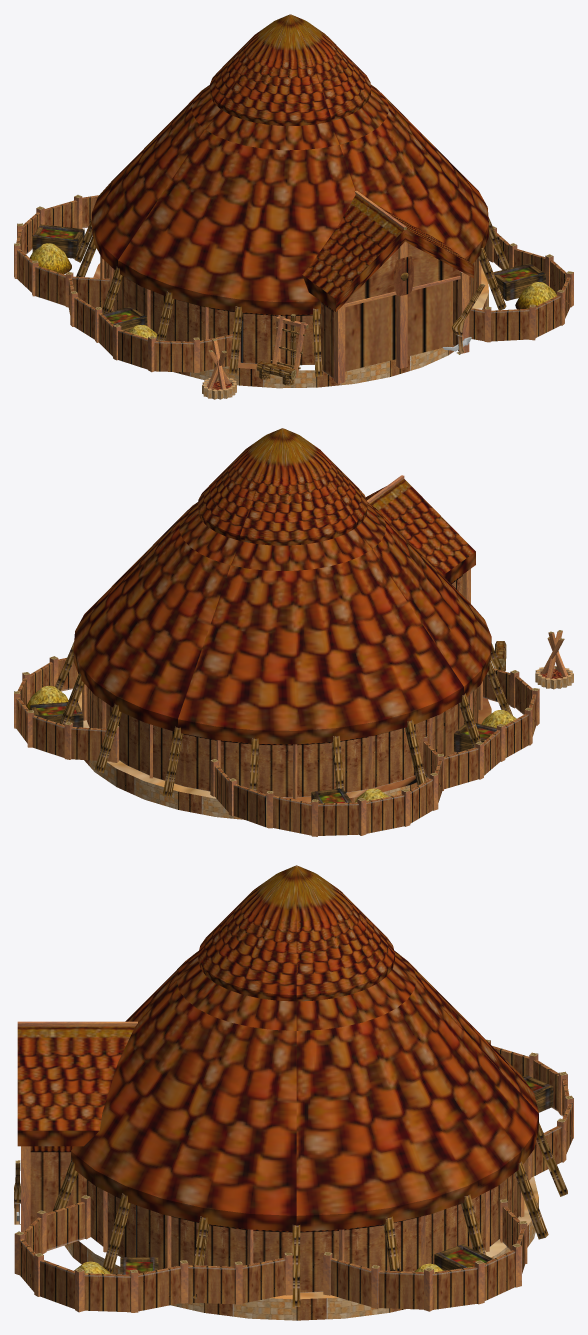
Rendered from civil_centre.dae.
The picture shows the model from 3 angles, top to bottom: view 1: azimuth 30°, elevation 25°; view 2: azimuth 150°, elevation 25°; view 3: azimuth 270°, elevation 25°; orthographic projection. The views are drawn at different scales.
Parts seen in each view (by area): view 1: civil_centre; view 2: civil_centre; view 3: civil_centre.
Boxes of the visible parts, x1,y1,x2,y2 form: civil_centre: (14,14,573,399); civil_centre: (14,428,573,836); civil_centre: (14,865,573,1320).
Bounding box in the file's own units: 28.08 × 27.87 × 19.37.
